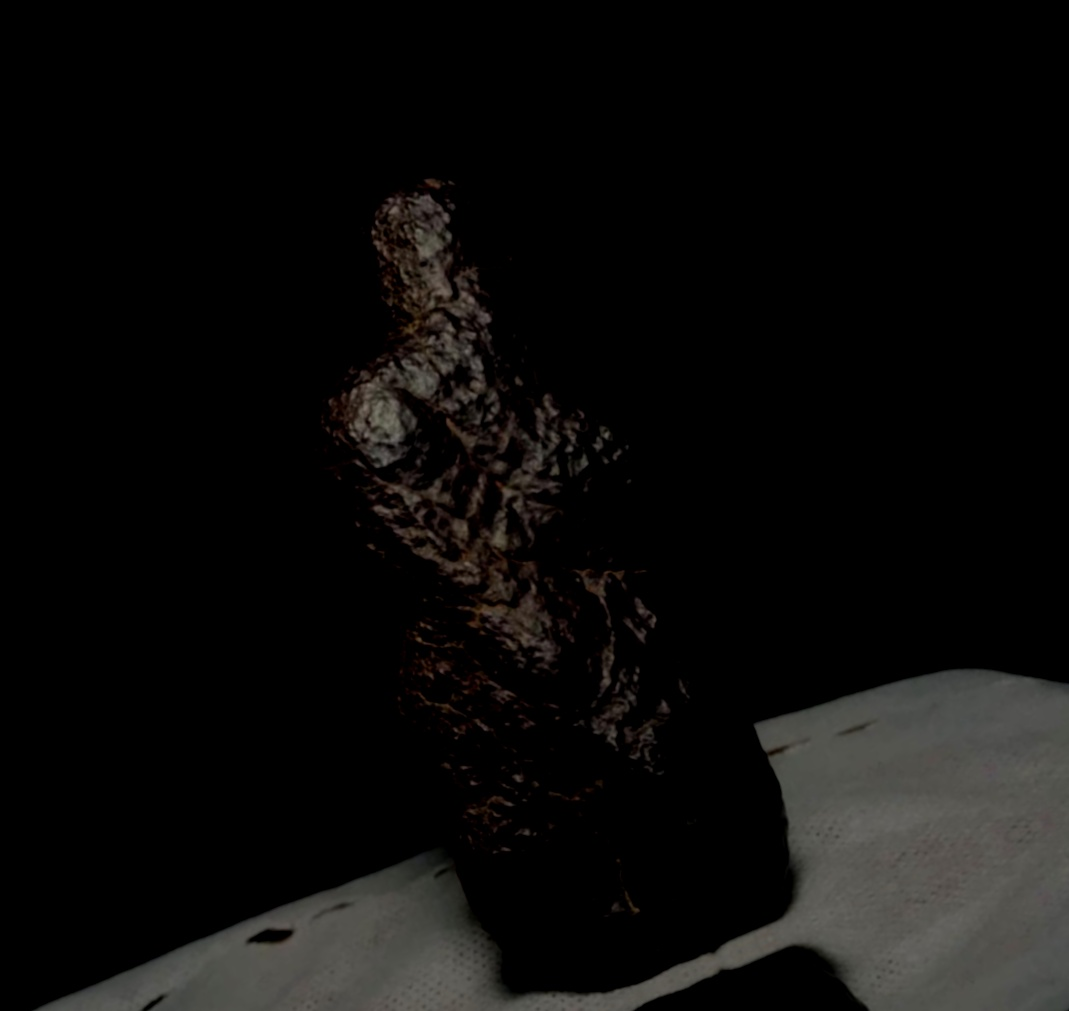halobolite: (130, 88, 900, 1011)
